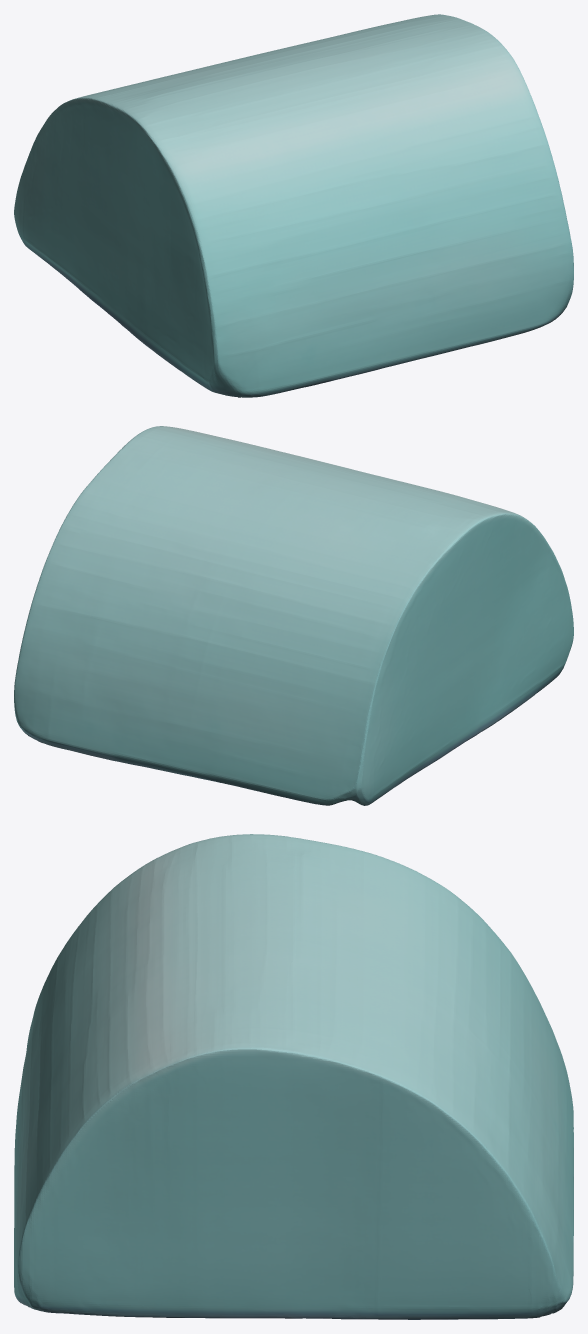
File: obj3_sam3d.glb
3 renders of one model, top to bottom at view 1: azimuth 30°, elevation 25°; view 2: azimuth 150°, elevation 25°; view 3: azimuth 270°, elevation 25°, orthographic. The views are drawn at different scales.
Parts seen in each view (by area): view 1: world; view 2: world; view 3: world.
Boxes of the visible parts, x1,y1,x2,y2 form: world: (14, 14, 573, 397); world: (14, 426, 573, 805); world: (14, 834, 573, 1319).
Bounding box in the file's own units: 0.9557 × 0.5512 × 0.9989.
